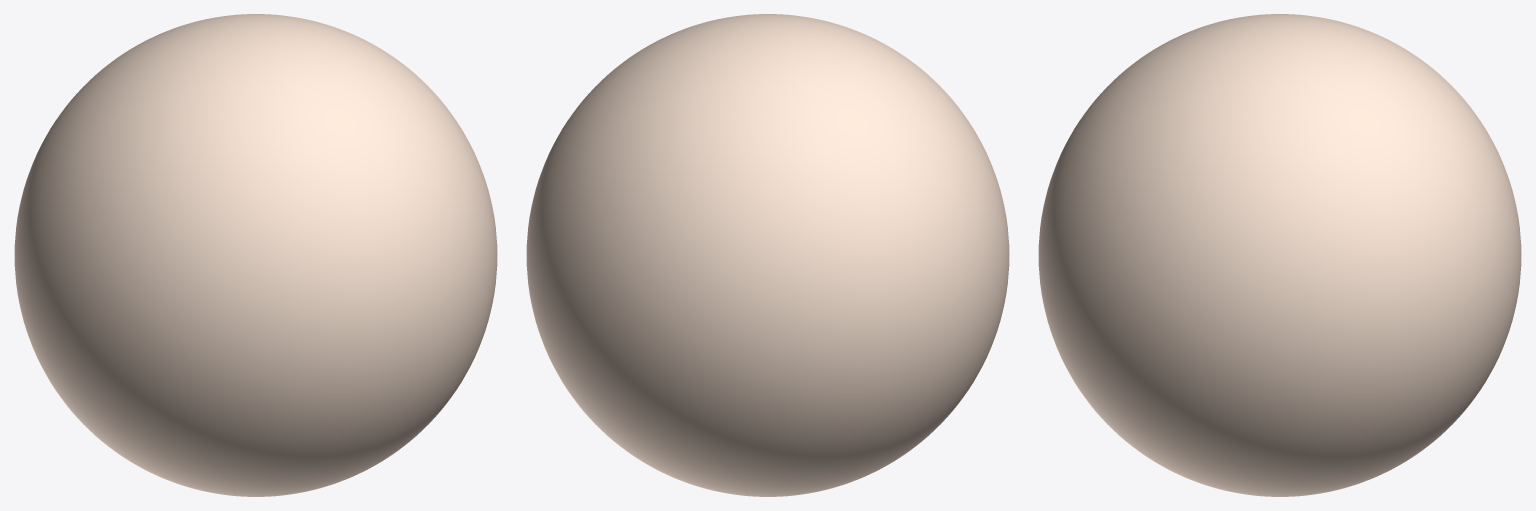
File: membrane_unity.fbx
The picture shows the model from 3 angles, left to right: view 1: azimuth 30°, elevation 25°; view 2: azimuth 150°, elevation 25°; view 3: azimuth 270°, elevation 25°; orthographic projection.
Parts seen in each view (by area): view 1: Endocytosis_Membrane; view 2: Endocytosis_Membrane; view 3: Endocytosis_Membrane.
Boxes of the visible parts, x1=… form: Endocytosis_Membrane: x1=14, y1=14, x2=497, y2=496; Endocytosis_Membrane: x1=526, y1=14, x2=1009, y2=496; Endocytosis_Membrane: x1=1038, y1=14, x2=1521, y2=496.
Size of the model in its own units: 2.12 by 2.12 by 2.12.
